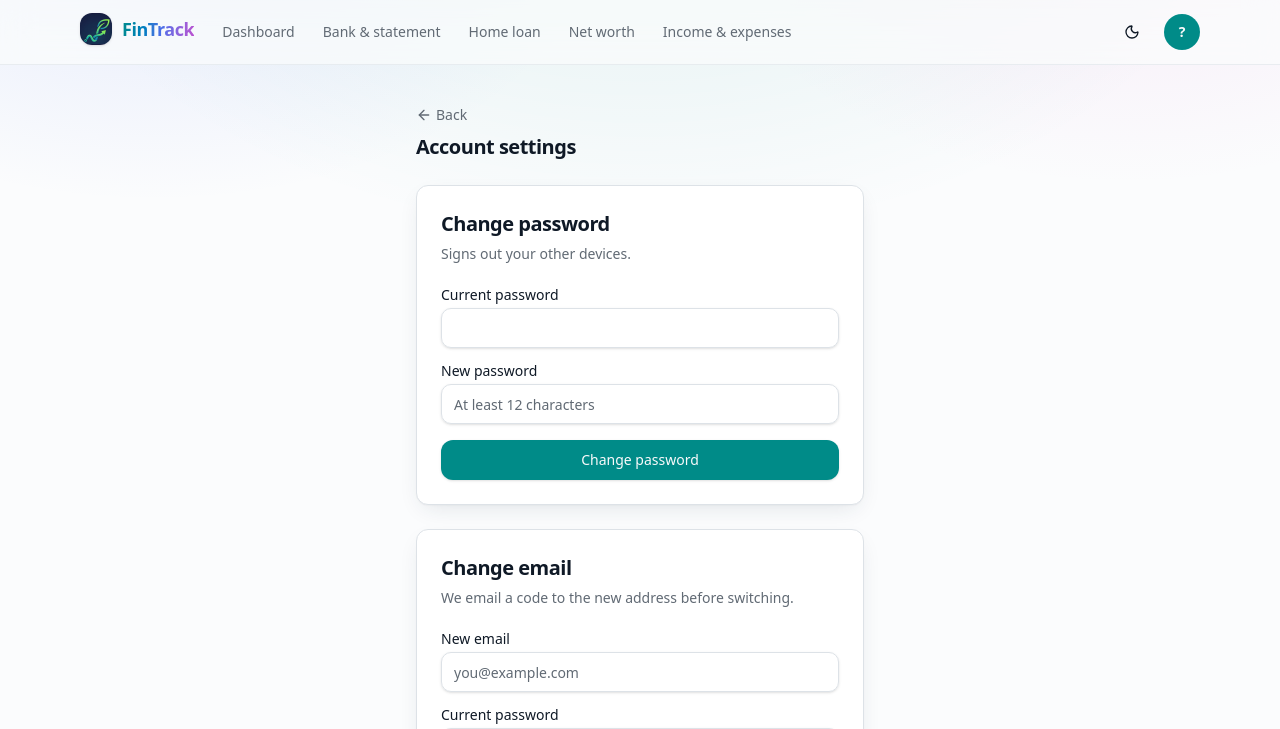
Test: SettingsPage — change password › blocks a short new password client-side
The image size is (1280, 729).
Type "whatever-current" into the password field labelled "Current password" below "Signs out your other devices." at [640, 328], box x1=441 y1=308 x2=839 y2=348
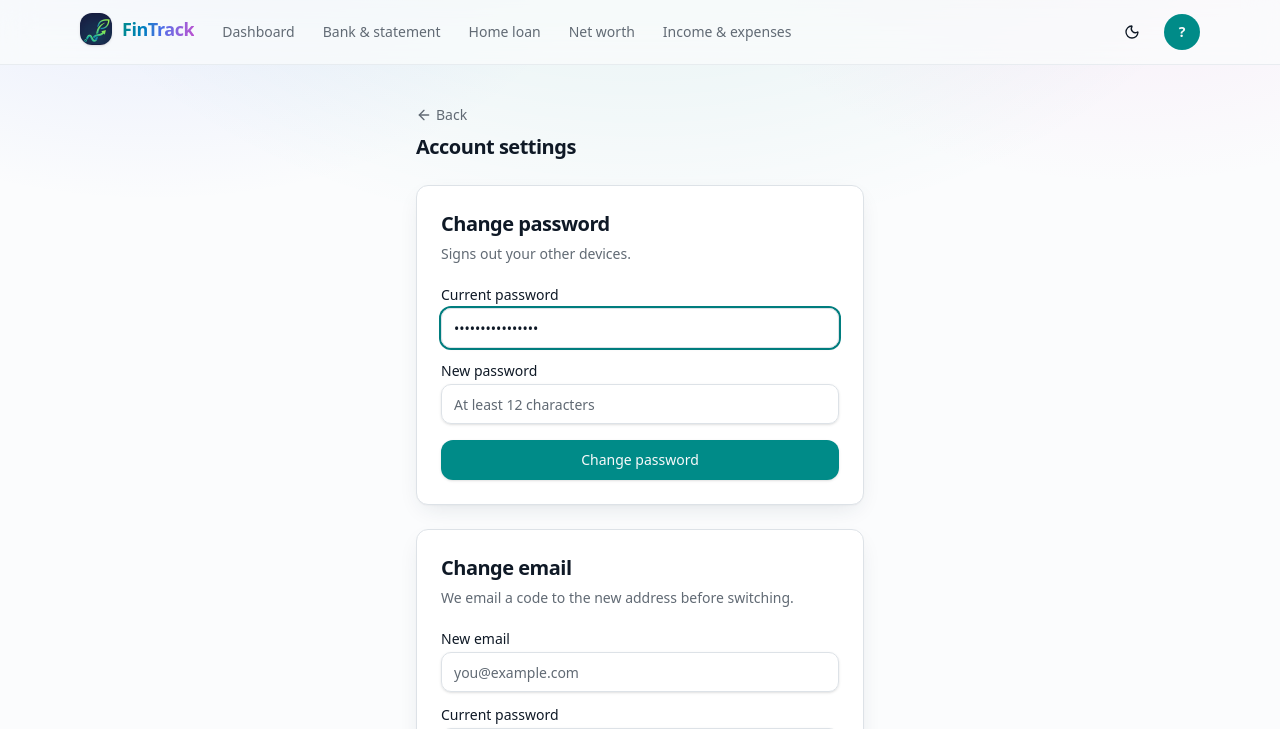
Type "short" into the password field labelled "New password" at [640, 404], box x1=441 y1=384 x2=839 y2=424
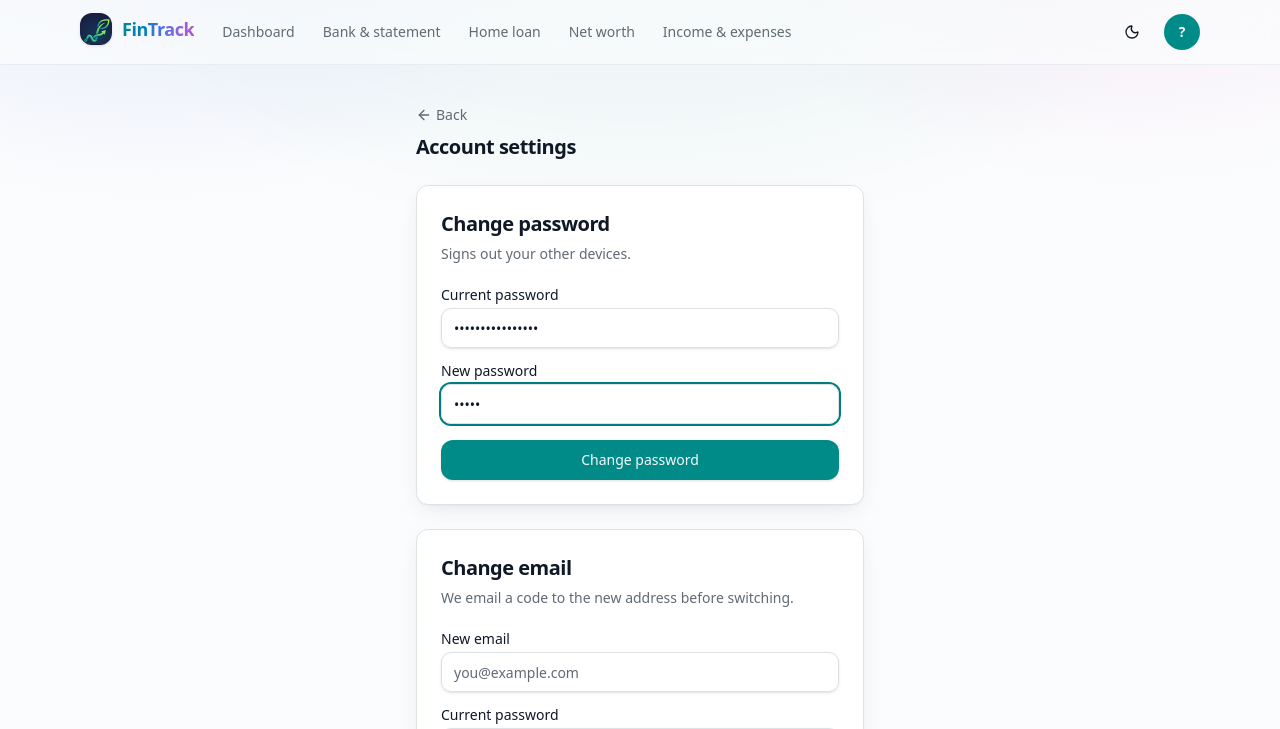
Click the button "Change password" at [640, 460], box x1=441 y1=440 x2=839 y2=480
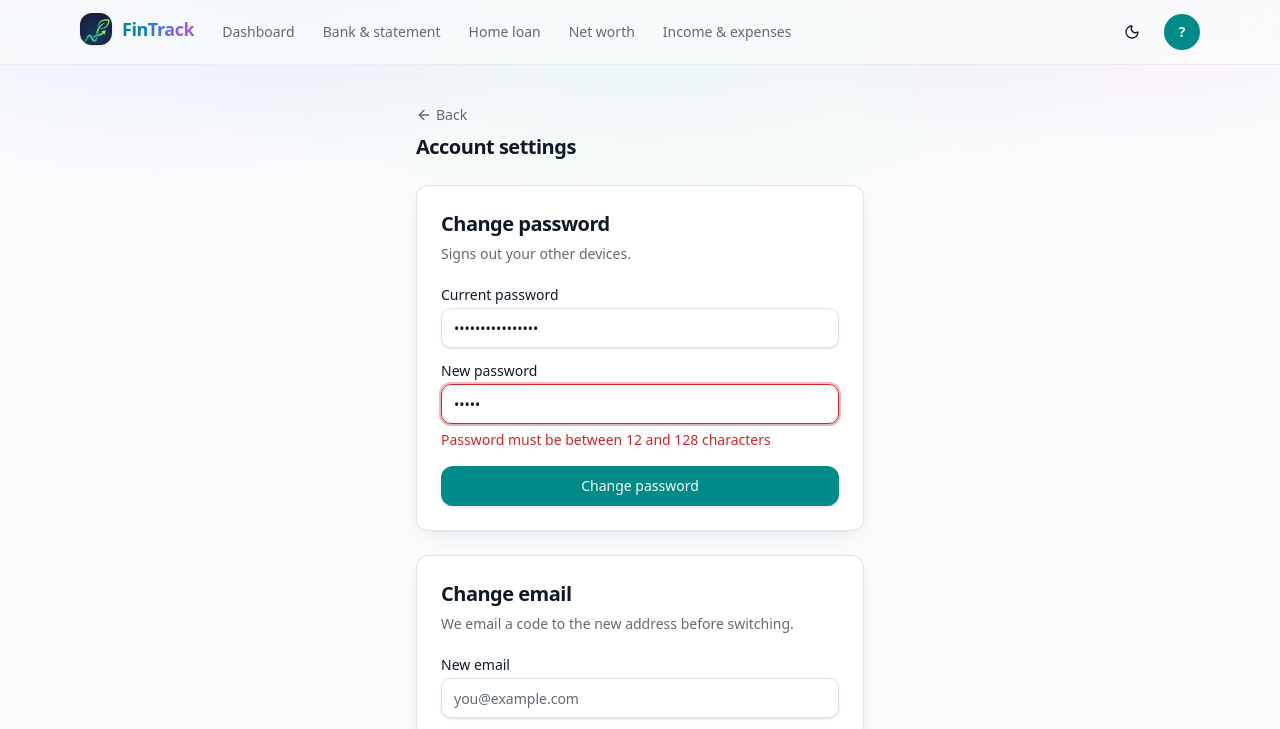
Check: the text "Password must be between 12 and 128 characters" is shown, box x1=441 y1=430 x2=771 y2=449
